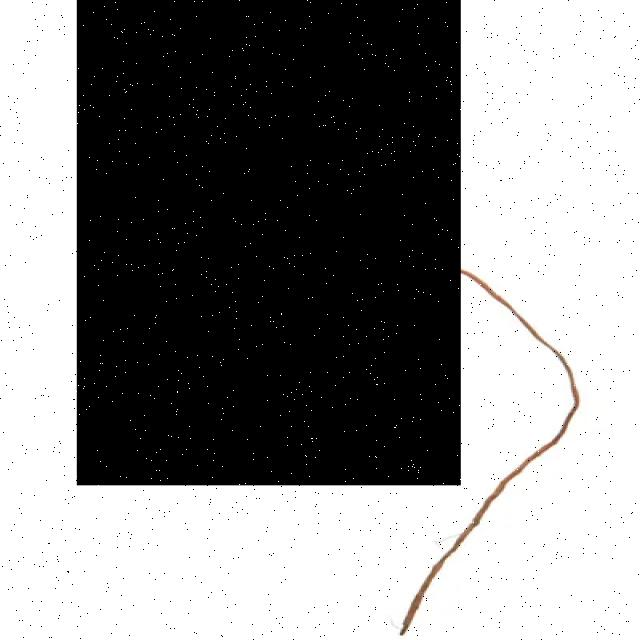Sweet_Potato: (77, 0, 461, 485)
